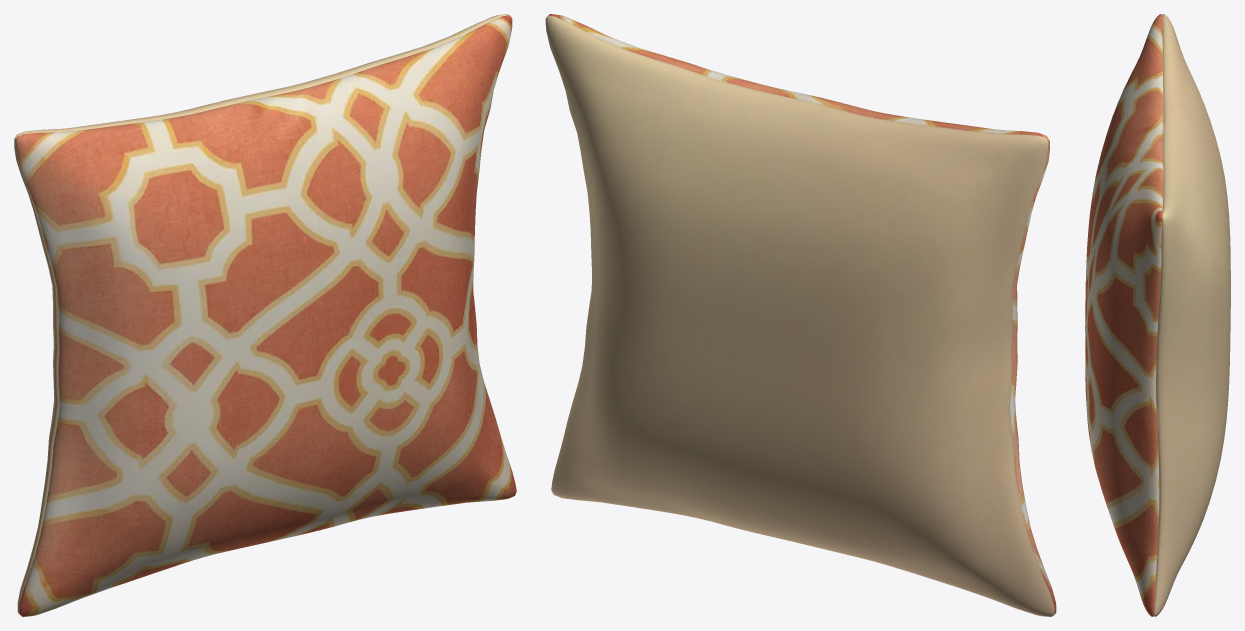
File: B07MF1RKS9.glb
3 renders of one model, left to right at view 1: azimuth 30°, elevation 25°; view 2: azimuth 150°, elevation 25°; view 3: azimuth 270°, elevation 25°, orthographic. The views are drawn at different scales.
Parts seen in each view (by area): view 1: RootNode; view 2: RootNode; view 3: RootNode.
Part boxes in pixels (x1,y1,x2,y2): RootNode: (14, 14, 516, 616); RootNode: (545, 14, 1056, 616); RootNode: (1085, 14, 1230, 616).
Bounding box in the file's own units: 0.552 × 0.5078 × 0.1659.
1 material, 1 textured.
